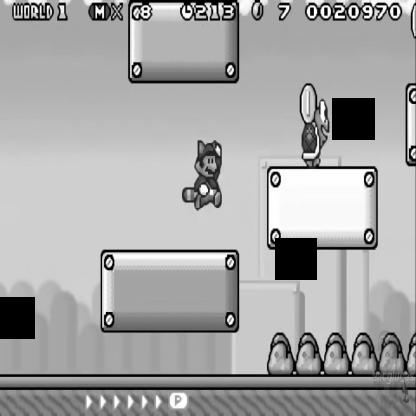Mario: (178, 140, 230, 214)
koopa: (300, 100, 330, 171)
moneda: (297, 80, 317, 124)
